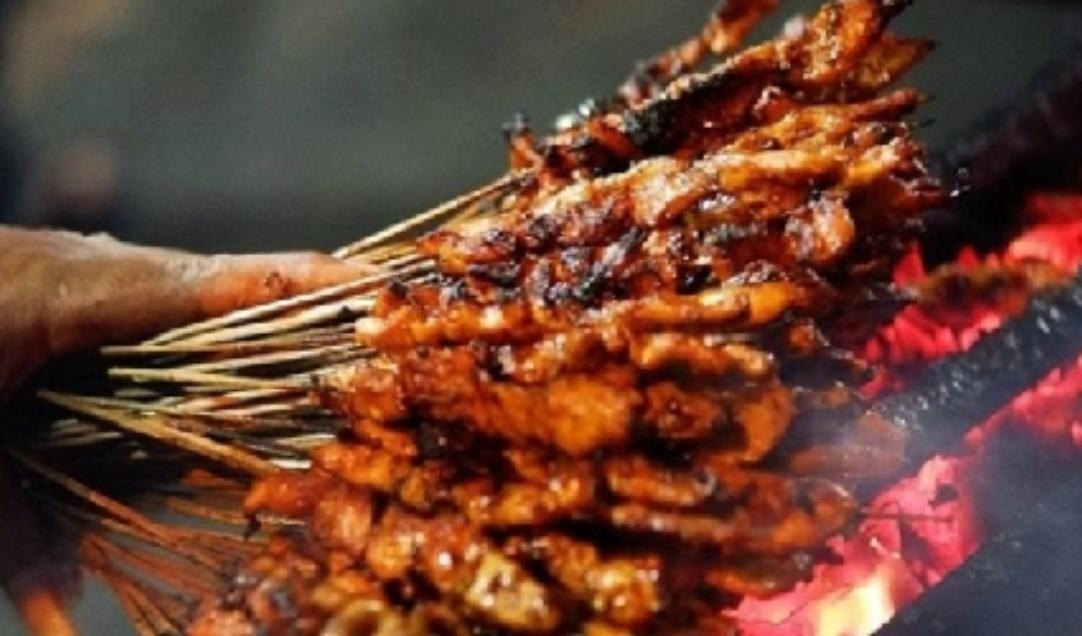sate_madura: (203, 5, 935, 636)
